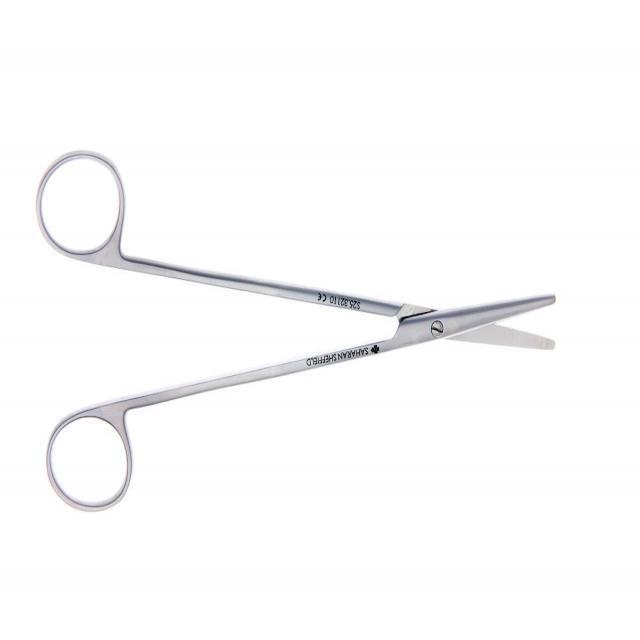Mayo_metz: (34, 142, 562, 518)
